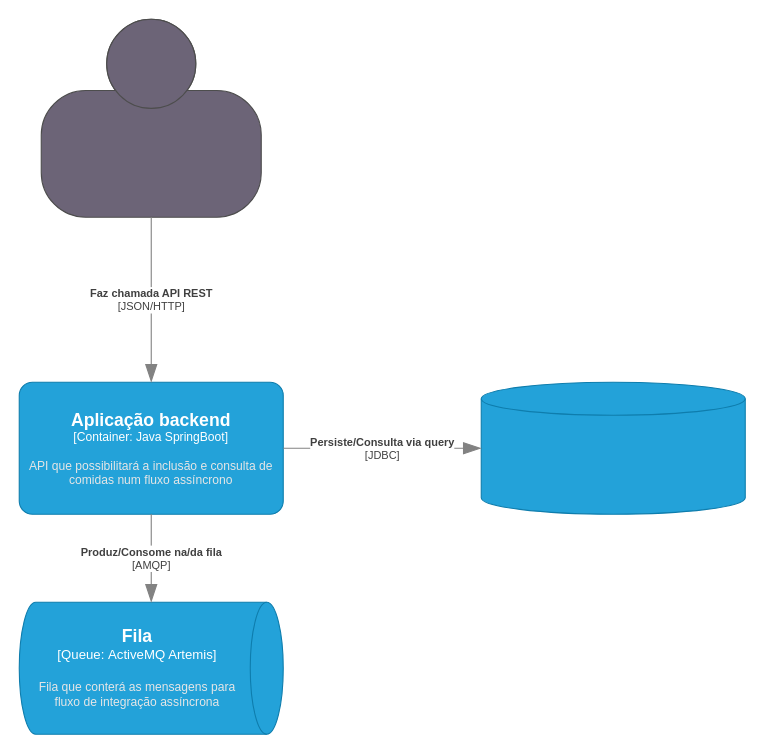
This 765x754 diagram has some shape labels left out. Each missing label, with the centre of its shape:
"Banco de dados [Database: SQLite] Guarda (persistência) dos dados relacionais" goes at pixel 612 447.
"Pessoa [Person] Uma pessoa que quer cadastrar e consultar comidas" goes at pixel 150 117.
